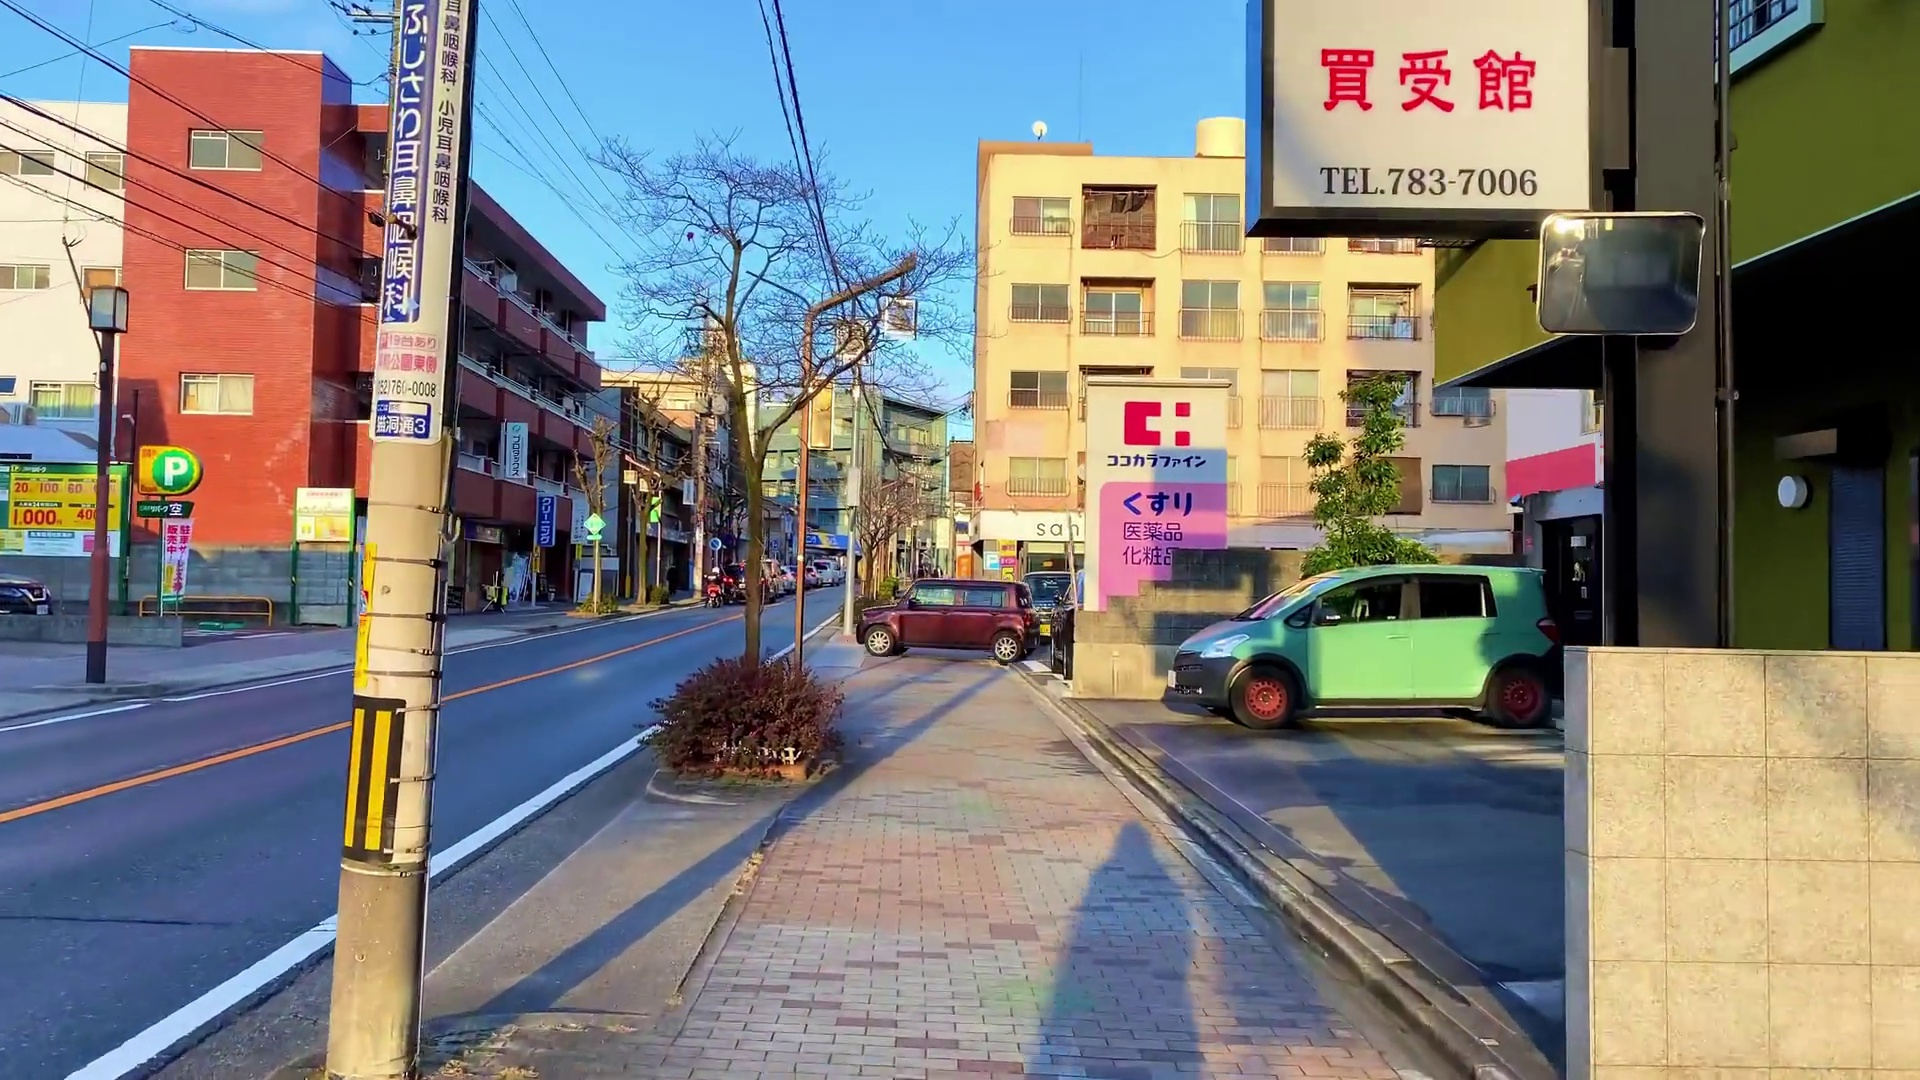car: (1172, 560, 1552, 731), (855, 579, 1033, 673)
